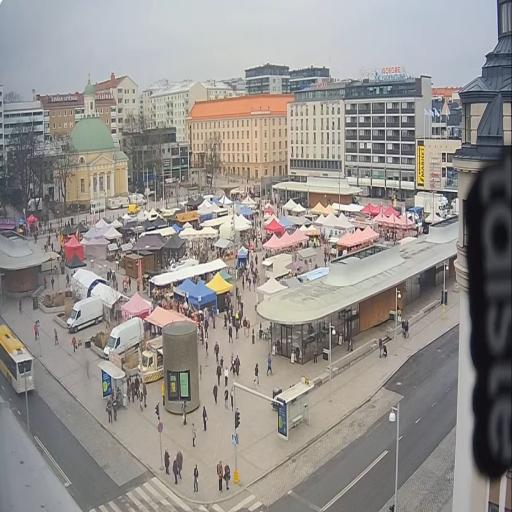Bus: (0, 325, 34, 393)
Delivery: (104, 317, 144, 359), (67, 297, 103, 333), (139, 336, 163, 383)
